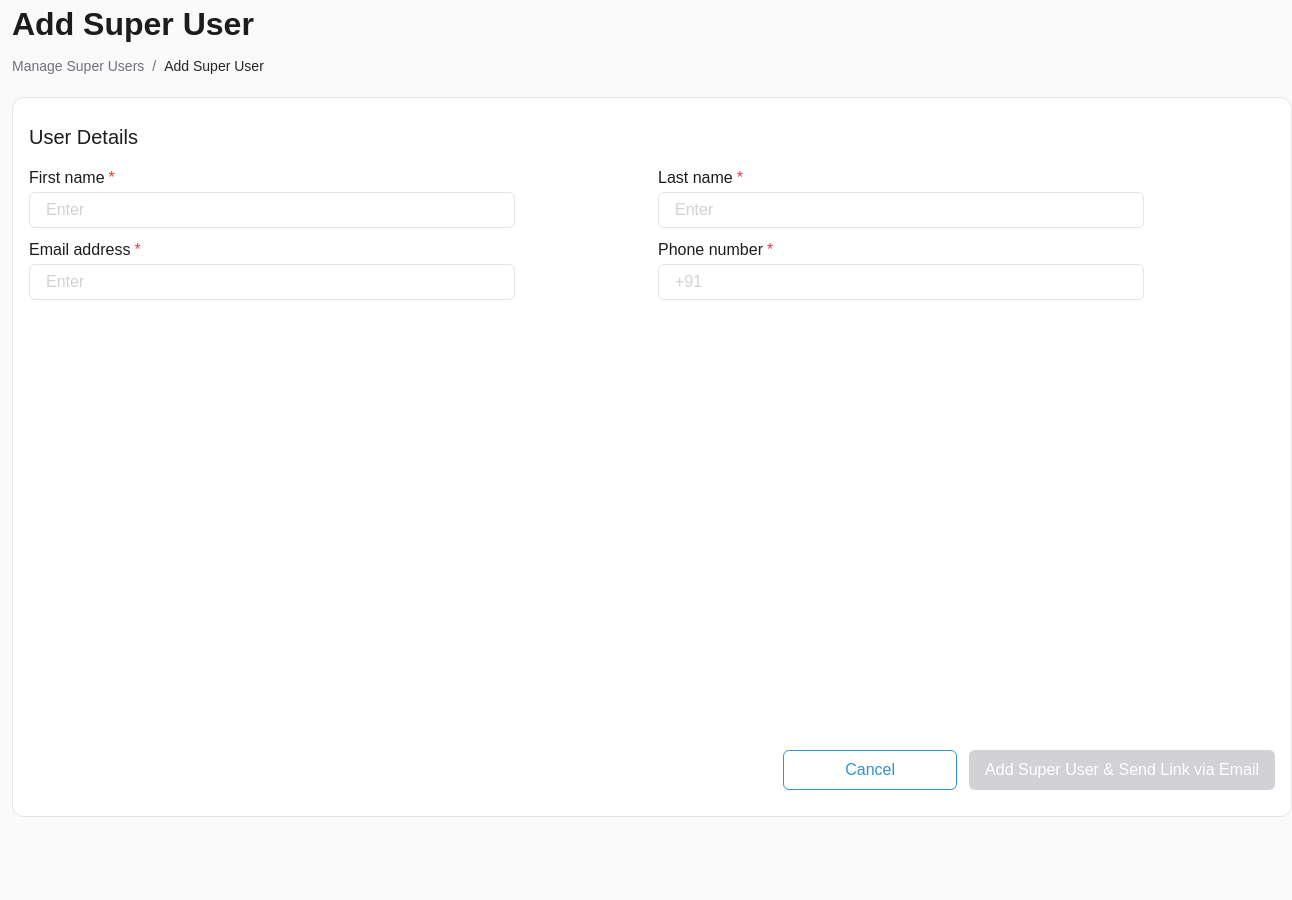
Test: SuperUserFormPage — Add Mode › submit button is enabled when form is valid
The image size is (1292, 900).
Type "Vijay" into the field labelled "First name*" at (272, 210), box [29, 192, 515, 228]
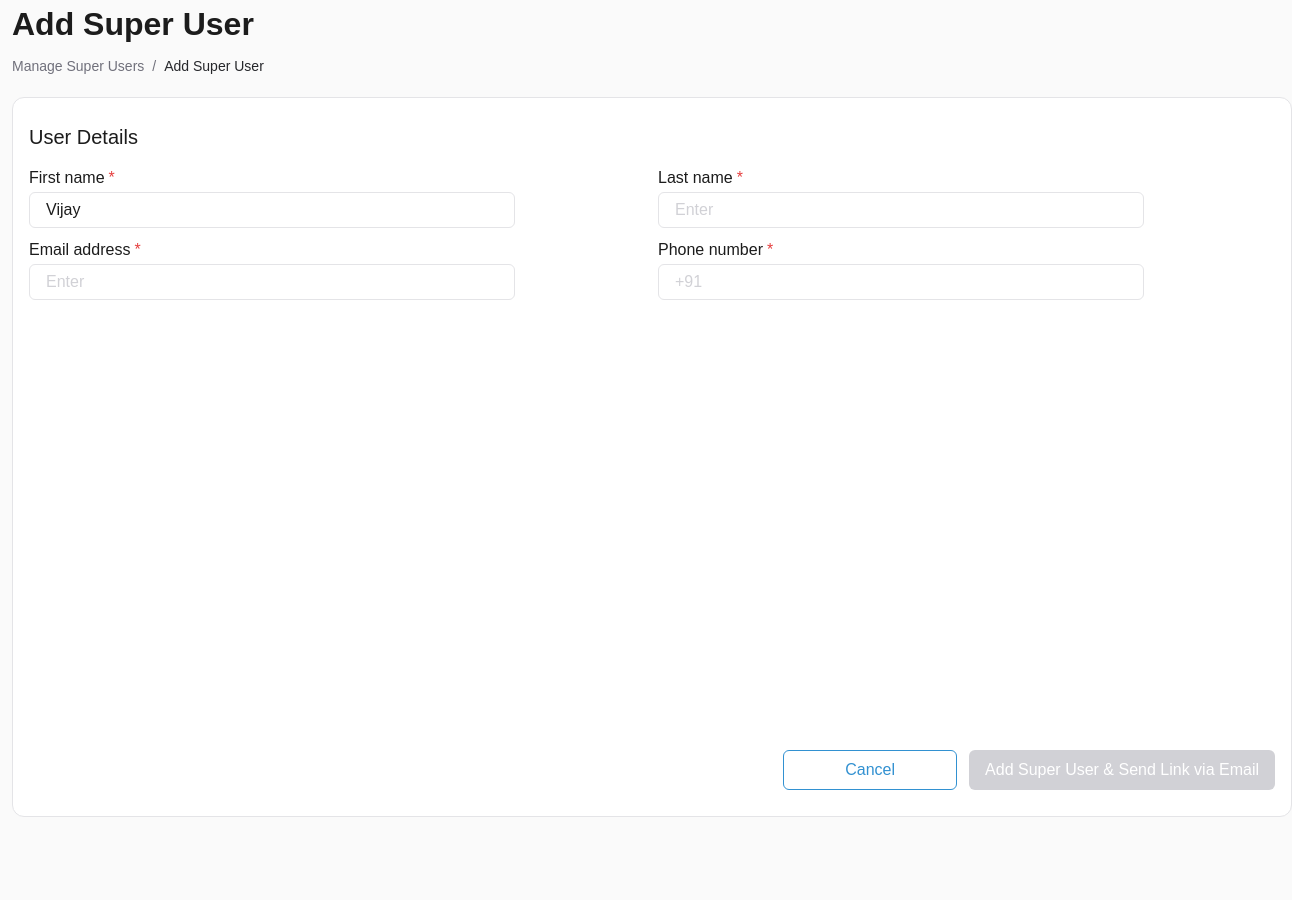
Type "Kumar" into the field labelled "Last name*" at (901, 210), box [658, 192, 1144, 228]
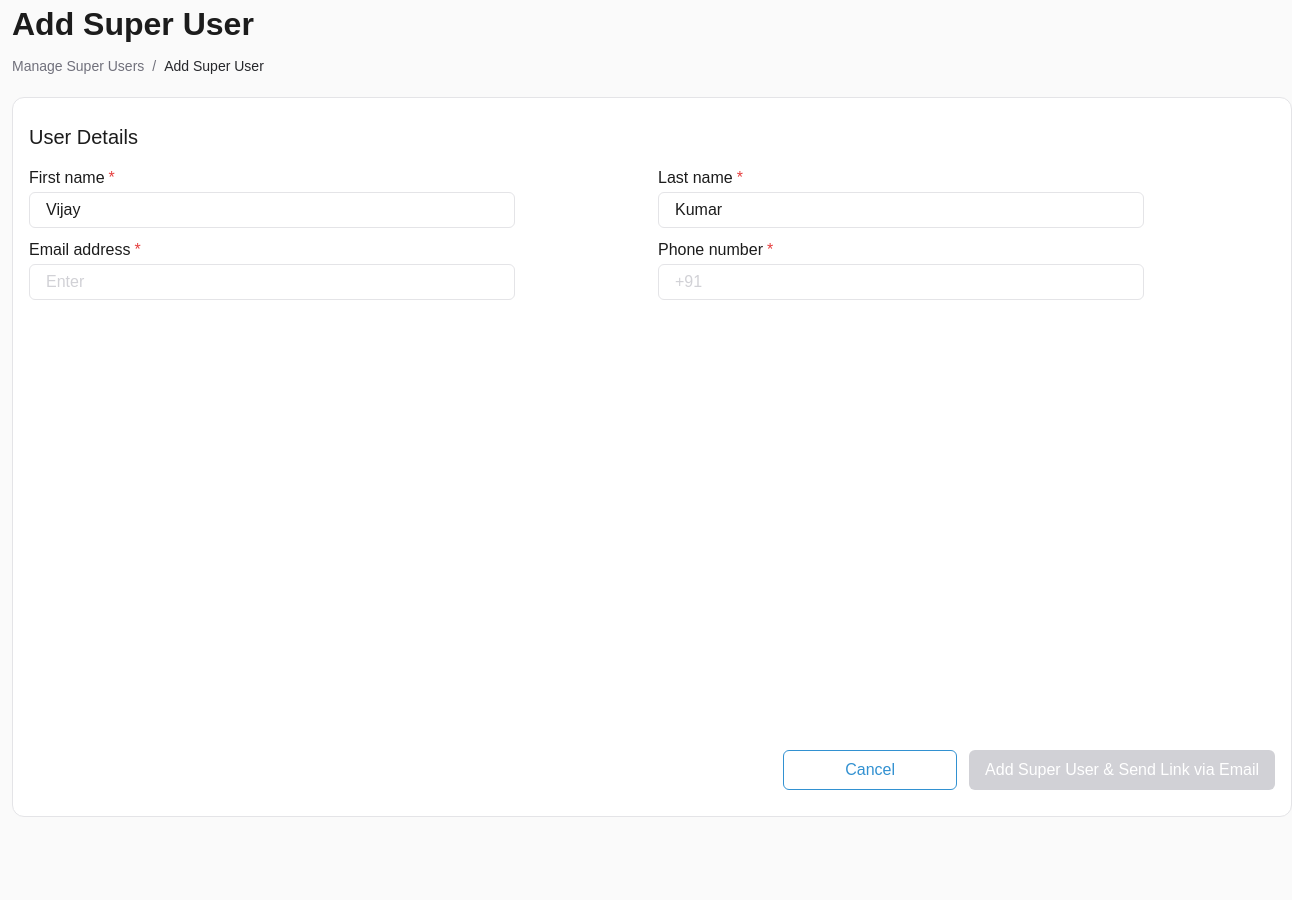
Type "vijay@gmail.com" into the field labelled "Email address*" at (272, 282), box [29, 264, 515, 300]
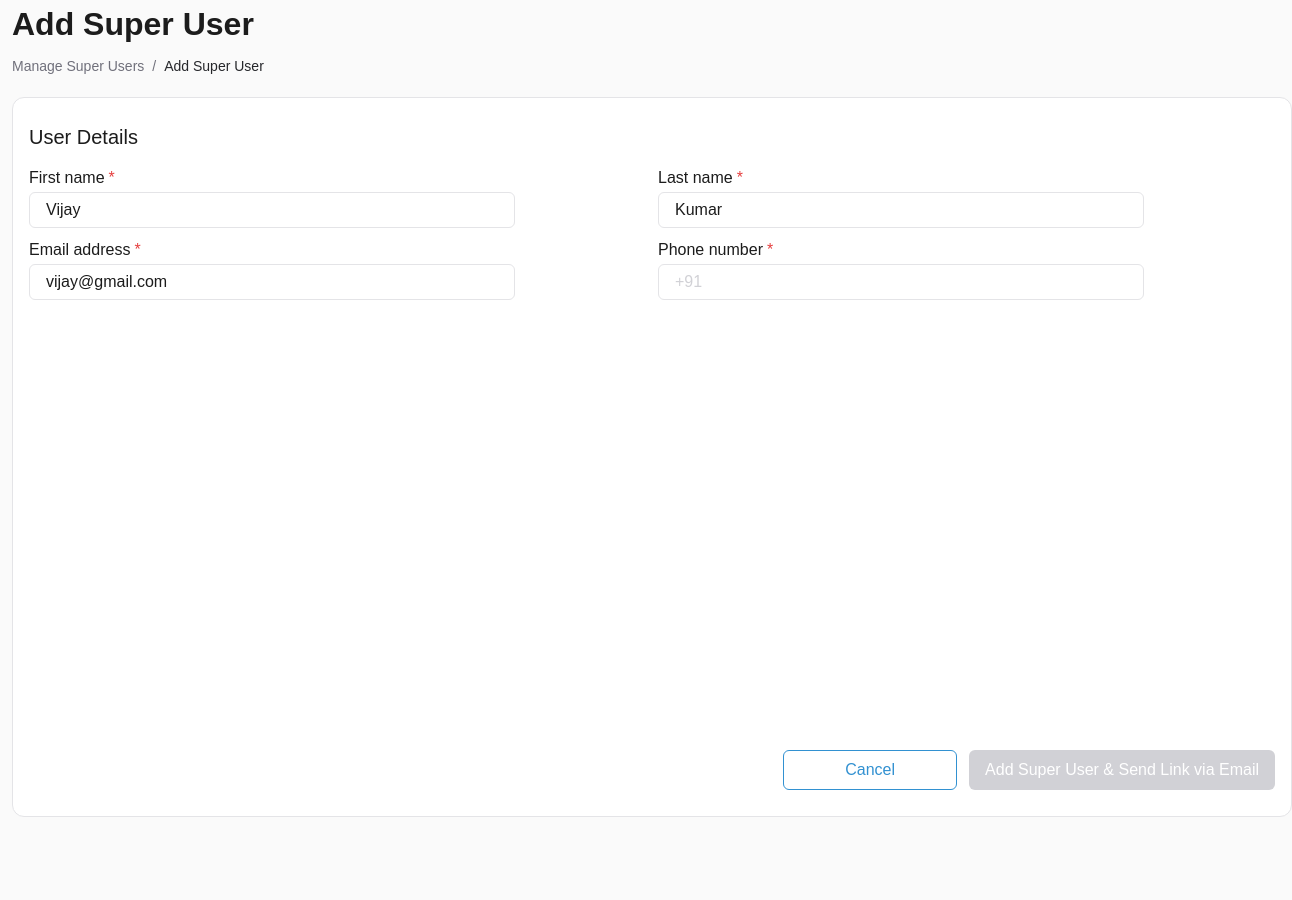
Type "8564254517" into the field labelled "Phone number*" at (901, 282), box [658, 264, 1144, 300]
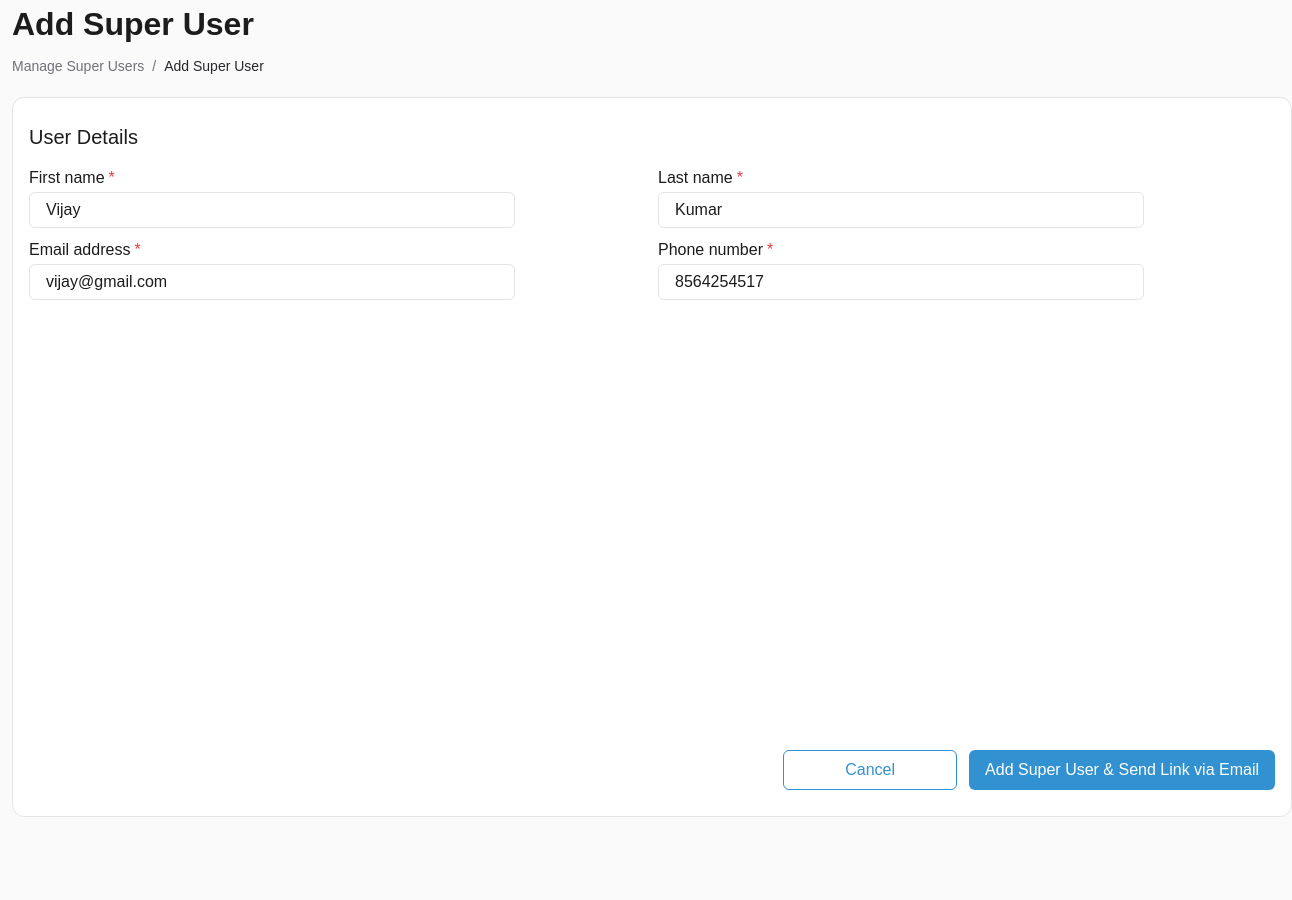
Check: the button "Add Super User & Send Link via Email" is enabled, box [969, 750, 1275, 790]
